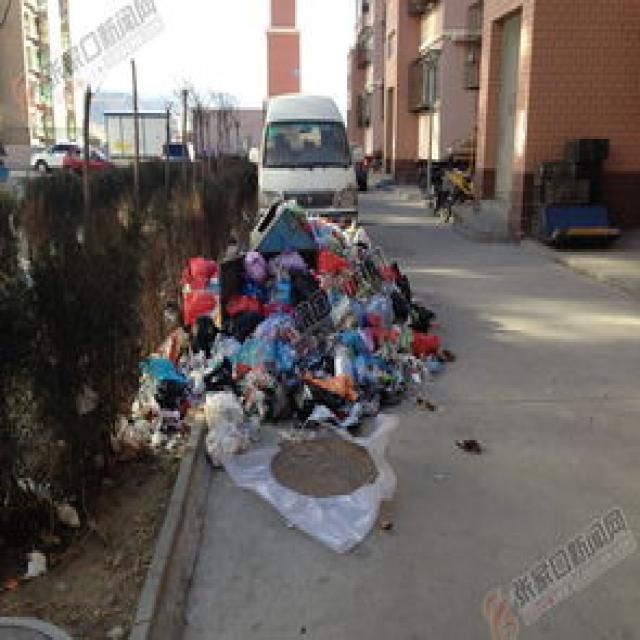garbage: (110, 194, 442, 553)
